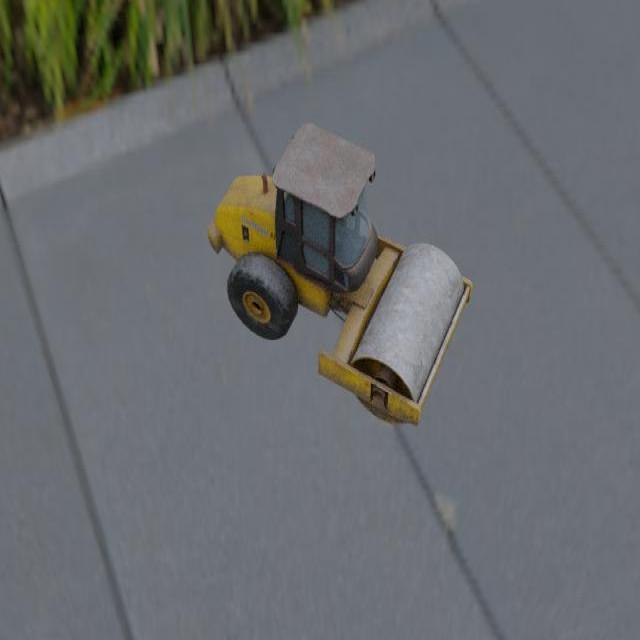Roller: (206, 121, 472, 427)
